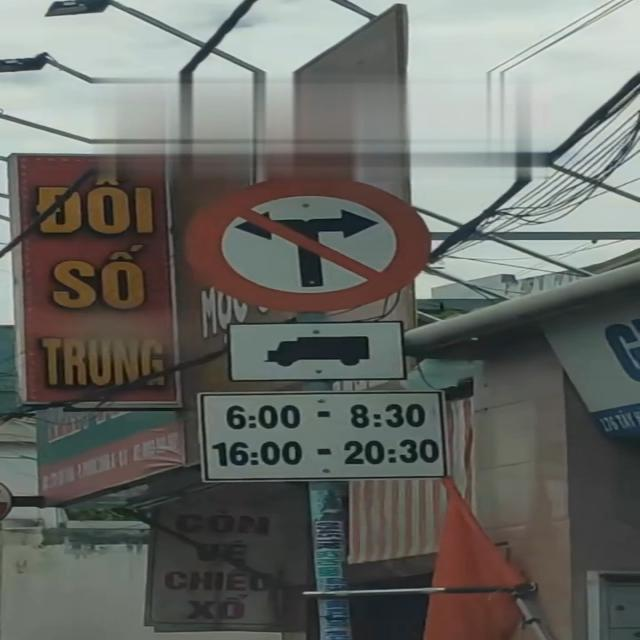137-cam-re-trai-va-re-phai: (180, 174, 434, 312)
